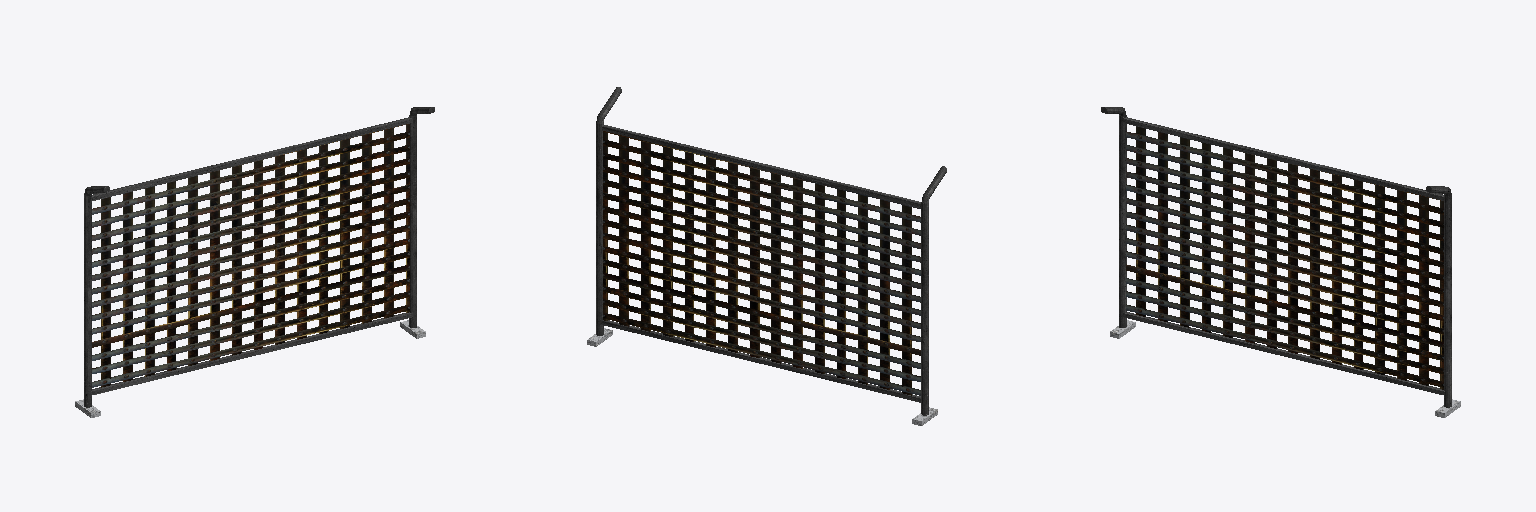
3 renders of one model, left to right at view 1: azimuth 30°, elevation 25°; view 2: azimuth 150°, elevation 25°; view 3: azimuth 330°, elevation 25°, orthographic.
Visible parts, largest first — view 1: Base_up.001_Cylinder.001; view 2: Base_up.001_Cylinder.001; view 3: Base_up.001_Cylinder.001.
Boxes of the visible parts, x1,y1,x2,y2 form: Base_up.001_Cylinder.001: [75, 107, 434, 417]; Base_up.001_Cylinder.001: [587, 87, 946, 425]; Base_up.001_Cylinder.001: [1101, 107, 1460, 417].
Bounding box in the file's own units: 4.11 × 2.81 × 0.5797.
Materials: 3 (3 with a texture image).